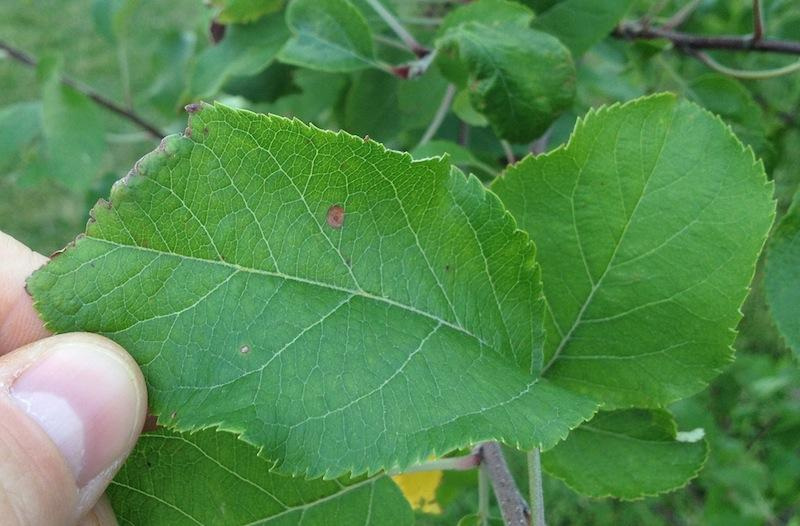Apple Scab Leaf: (30, 100, 574, 482)
